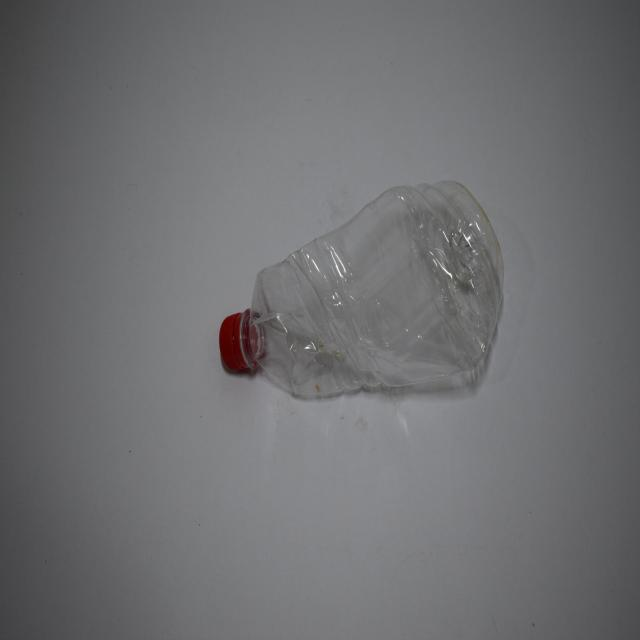bottle: (222, 176, 507, 405)
